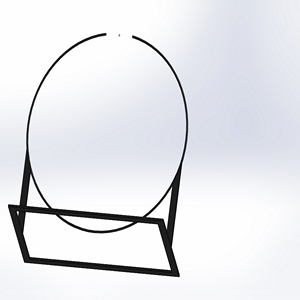circle: (6, 28, 188, 277)
